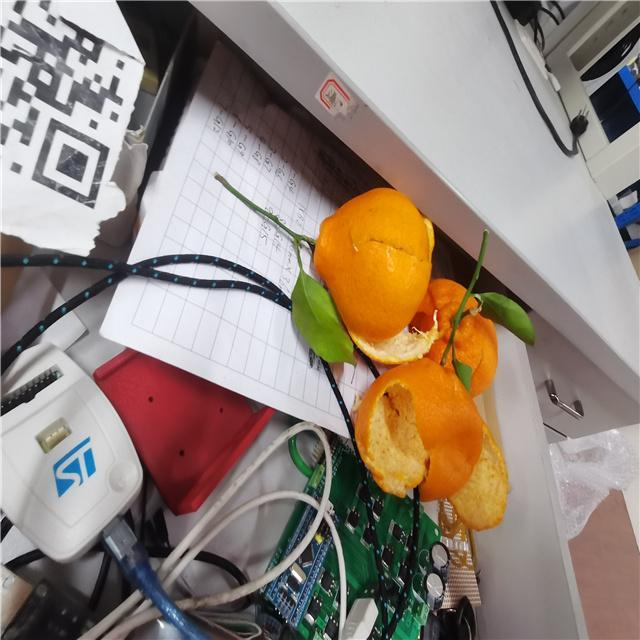orange-peel: (310, 185, 508, 527), (311, 185, 434, 343), (353, 357, 484, 501)
